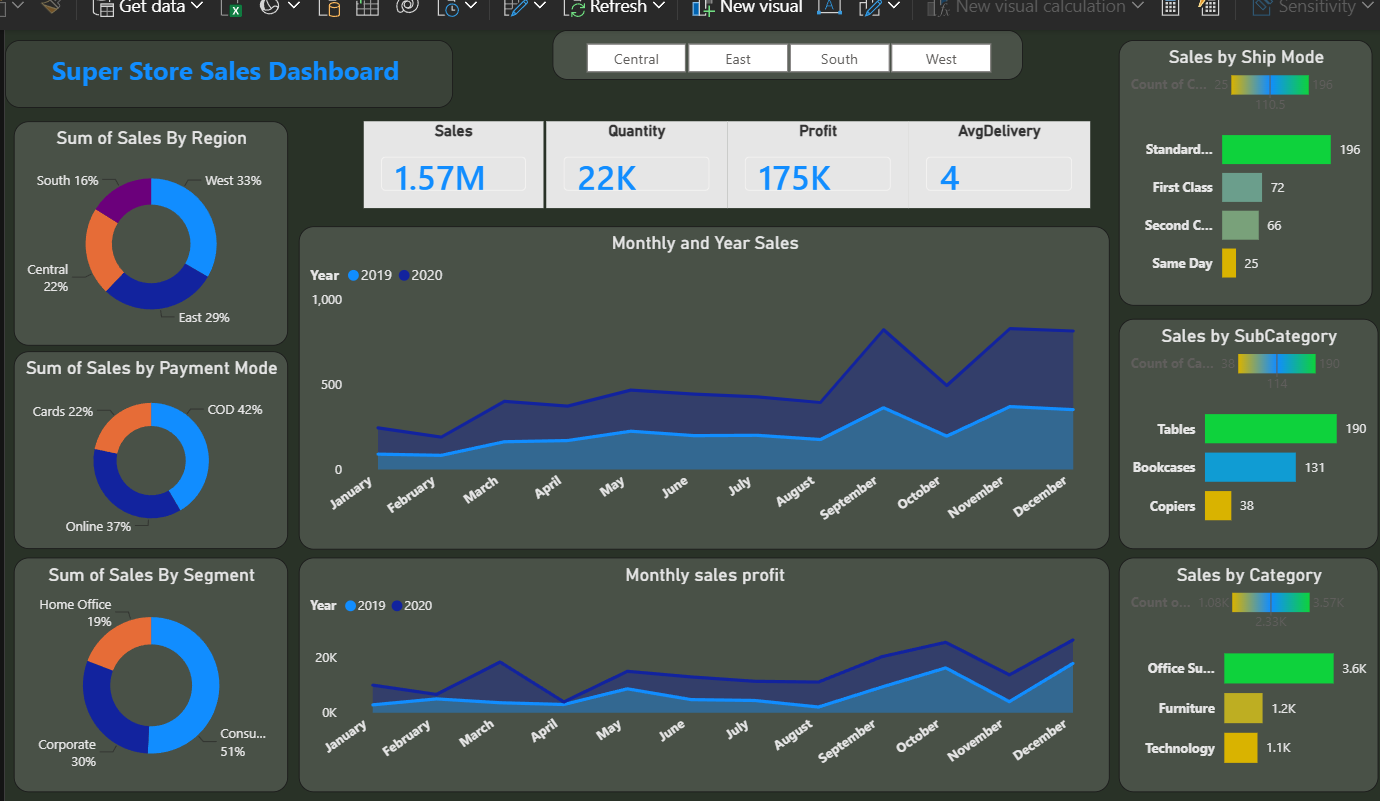

What the dashboard file says about the page in this screenshot:
{"tool":"powerbi","page":{"name":"Page 1","canvas":[1280,720],"ordinal":0},"visuals":[{"type":"clusteredBarChart","title":"Sales by Category","fields":{"Category":["SuperStore_Sales_Dataset csv.Category"],"Y":["CountNonNull(SuperStore_Sales_Dataset csv.Sales)"]},"box":[1036,491.3,241.5,218.2],"z":0},{"type":"clusteredBarChart","title":"Sales by SubCategory","fields":{"Category":["SuperStore_Sales_Dataset csv.Sub-Category"],"Y":["CountNonNull(SuperStore_Sales_Dataset csv.Sales)"]},"box":[1036,269,241.5,214.1],"z":1000},{"type":"clusteredBarChart","title":"Sales by Ship Mode","fields":{"Y":["CountNonNull(SuperStore_Sales_Dataset csv.Sales)"],"Category":["SuperStore_Sales_Dataset csv.Ship Mode"]},"box":[1036,9.6,236,247],"z":2000},{"type":"stackedAreaChart","title":"Monthly and Year Sales","fields":{"Y":["CountNonNull(SuperStore_Sales_Dataset csv.Sales)"],"Category":["SuperStore_Sales_Dataset csv.Order Date.Variation.Date Hierarchy.Month","SuperStore_Sales_Dataset csv.Order Date.Variation.Date Hierarchy.Day"],"Series":["SuperStore_Sales_Dataset csv.Order Date.Variation.Date Hierarchy.Year"]},"box":[272.7,182.6,754.7,300.6],"z":3000},{"type":"stackedAreaChart","title":"Monthly sales profit","fields":{"Category":["SuperStore_Sales_Dataset csv.Order Date.Variation.Date Hierarchy.Month","SuperStore_Sales_Dataset csv.Order Date.Variation.Date Hierarchy.Day"],"Series":["SuperStore_Sales_Dataset csv.Order Date.Variation.Date Hierarchy.Year"],"Y":["Sum(SuperStore_Sales_Dataset csv.Profit)"]},"box":[272.7,490.9,754.7,218.2],"z":4000},{"type":"donutChart","title":"Sum of Sales By Segment","fields":{"Category":["SuperStore_Sales_Dataset csv.Segment"],"Y":["CountNonNull(SuperStore_Sales_Dataset csv.Sales)"]},"box":[8.2,491.3,255.2,218.2],"z":5000},{"type":"donutChart","title":"Sum of Sales by Payment Mode","fields":{"Category":["SuperStore_Sales_Dataset csv.Payment Mode"],"Y":["CountNonNull(SuperStore_Sales_Dataset csv.Sales)"]},"box":[8.2,299.1,255.2,183.9],"z":6000},{"type":"donutChart","title":"Sum of Sales By Region","fields":{"Category":["SuperStore_Sales_Dataset csv.Region"],"Y":["Sum(SuperStore_Sales_Dataset csv.Sales)"]},"box":[8.2,85.1,255.2,208.6],"z":7000},{"type":"slicer","fields":{"Values":["SuperStore_Sales_Dataset csv.Region"]},"box":[509.1,0,437.7,46.7],"z":8000},{"type":"textbox","box":[0,9.6,417.2,63.1],"z":9000},{"type":"cardVisual","title":"Sales","fields":{"Data":["Sum(SuperStore_Sales_Dataset csv.Sales)"]},"box":[333.4,85.1,167.4,81],"z":10000},{"type":"cardVisual","title":"Quantity","fields":{"Data":["Sum(SuperStore_Sales_Dataset csv.Quantity)"]},"box":[503.6,85.1,168.8,81],"z":11000},{"type":"cardVisual","title":"Profit","fields":{"Data":["Sum(SuperStore_Sales_Dataset csv.Profit)"]},"box":[672.4,85.1,168.8,81],"z":12000},{"type":"cardVisual","title":"AvgDelivery","fields":{"Data":["Avg(SuperStore_Sales_Dataset csv.AvgDelivery)"]},"box":[841.2,85.1,168.8,81],"z":13000}]}

Visuals, with their boxes on the page's 1280x720 design canvas (x1, y1, x2, y2). These are canvas units, not pixel positions in the 1380x801 screenshot, which may show the page scaled, cropped or inside an application window:
"Sales by Category" clusteredBarChart: crop(1036, 491, 1278, 710)
"Sales by SubCategory" clusteredBarChart: crop(1036, 269, 1278, 483)
"Sales by Ship Mode" clusteredBarChart: crop(1036, 10, 1272, 257)
"Monthly and Year Sales" stackedAreaChart: crop(273, 183, 1027, 483)
"Monthly sales profit" stackedAreaChart: crop(273, 491, 1027, 709)
"Sum of Sales By Segment" donutChart: crop(8, 491, 263, 710)
"Sum of Sales by Payment Mode" donutChart: crop(8, 299, 263, 483)
"Sum of Sales By Region" donutChart: crop(8, 85, 263, 294)
slicer - SuperStore_Sales_Dataset csv.Region: crop(509, 0, 947, 47)
textbox: crop(0, 10, 417, 73)
"Sales" cardVisual: crop(333, 85, 501, 166)
"Quantity" cardVisual: crop(504, 85, 672, 166)
"Profit" cardVisual: crop(672, 85, 841, 166)
"AvgDelivery" cardVisual: crop(841, 85, 1010, 166)
